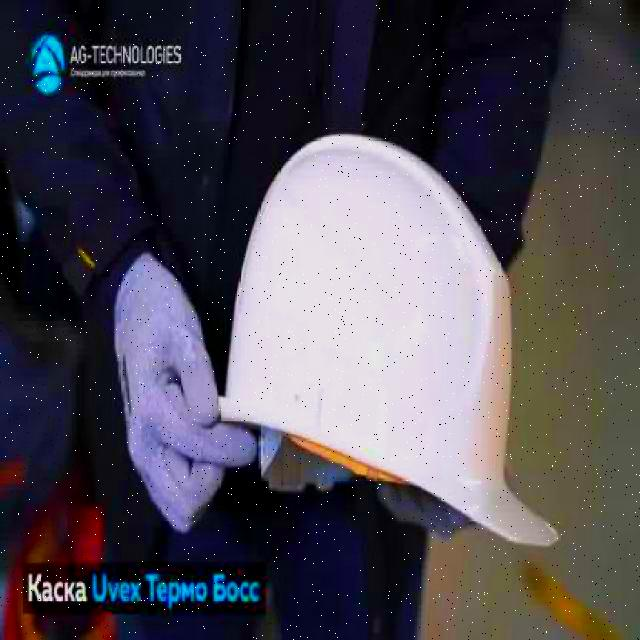Gloves: (113, 246, 258, 540)
Helmet: (215, 130, 563, 550)
